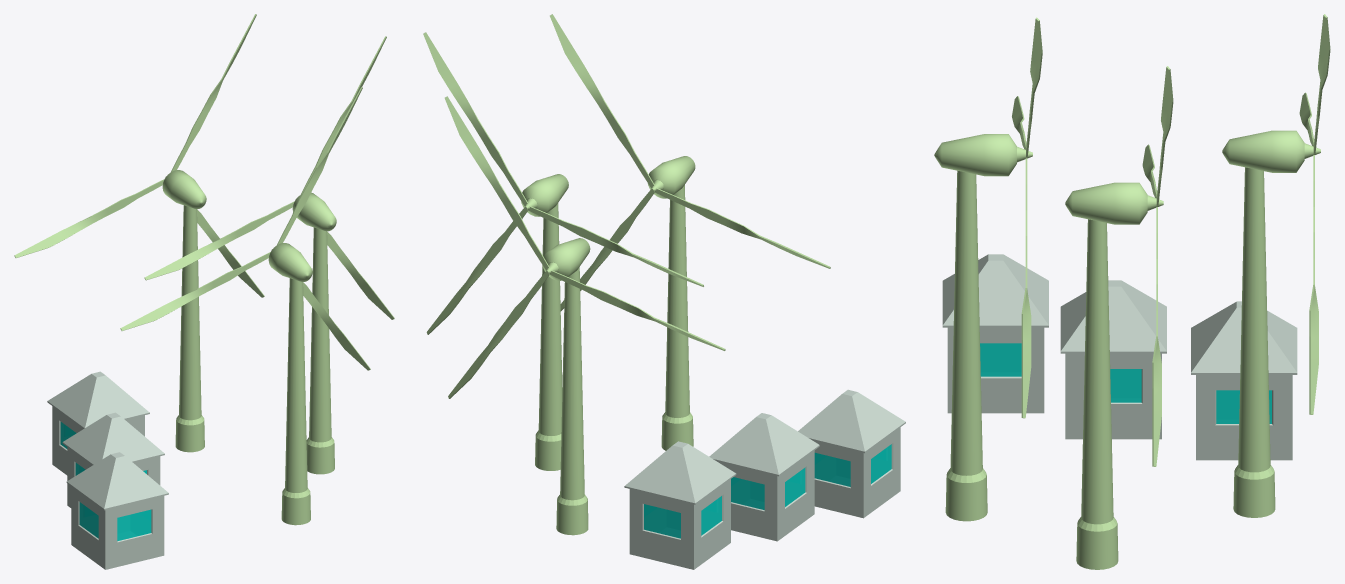
The model's file is WindPlant.fbx.
The picture shows the model from 3 angles, left to right: view 1: azimuth 30°, elevation 25°; view 2: azimuth 150°, elevation 25°; view 3: azimuth 270°, elevation 25°; orthographic projection. The views are drawn at different scales.
Visible parts, largest first — view 1: polySurface9; view 2: polySurface9; view 3: polySurface9.
Boxes of the visible parts, x1,y1,x2,y2 form: polySurface9: (14,14,394,569); polySurface9: (423,14,905,569); polySurface9: (934,14,1330,569).
Size of the model in its own units: 28.17 by 28.93 by 18.63.
